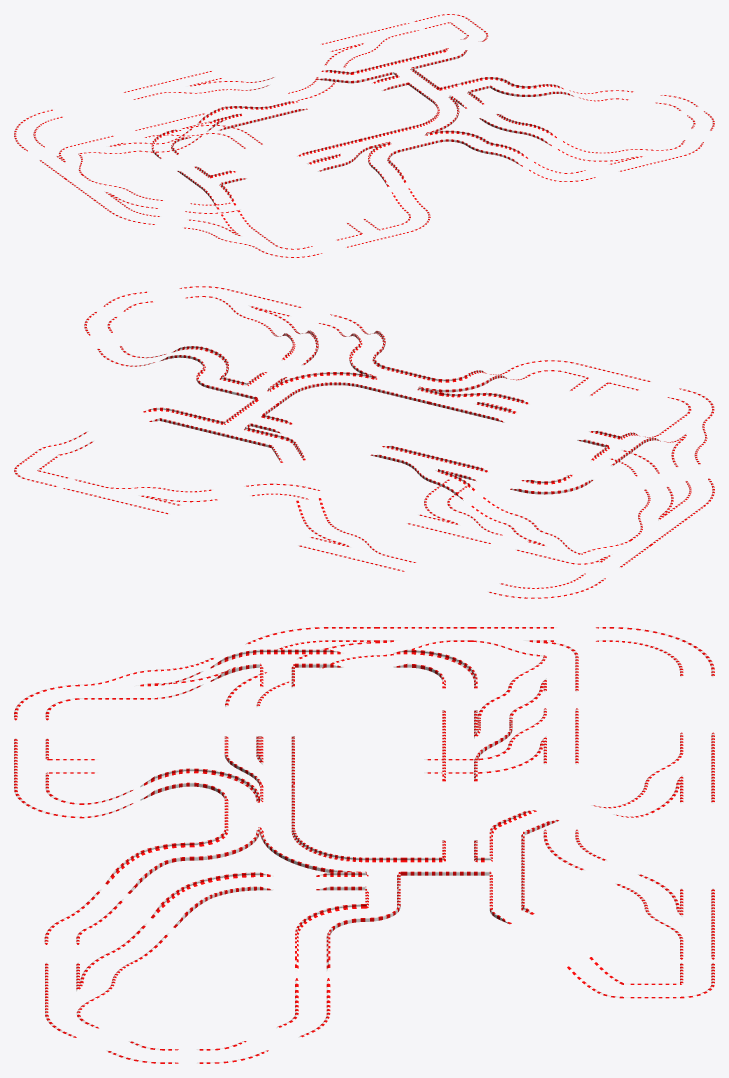
Rendered from Track 1 - Bumpers & Walls.fbx.
The picture shows the model from 3 angles, top to bottom: view 1: azimuth 30°, elevation 25°; view 2: azimuth 150°, elevation 25°; view 3: azimuth 270°, elevation 25°; orthographic projection. The views are drawn at different scales.
Parts seen in each view (by area): view 1: Straight Ahead Wall.039; view 2: Straight Ahead Wall.039; view 3: Straight Ahead Wall.039.
Part boxes in pixels (bbox=[...]): Straight Ahead Wall.039: bbox=[14, 14, 714, 257]; Straight Ahead Wall.039: bbox=[14, 286, 714, 598]; Straight Ahead Wall.039: bbox=[14, 627, 714, 1063].
Size of the model in its own units: 1177 by 44 by 798.
